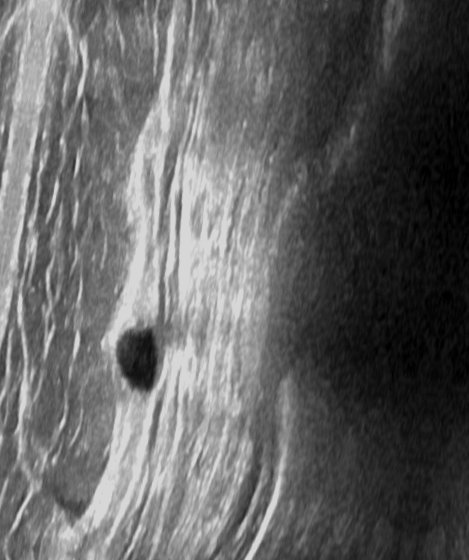Benign: (107, 324, 166, 395)
